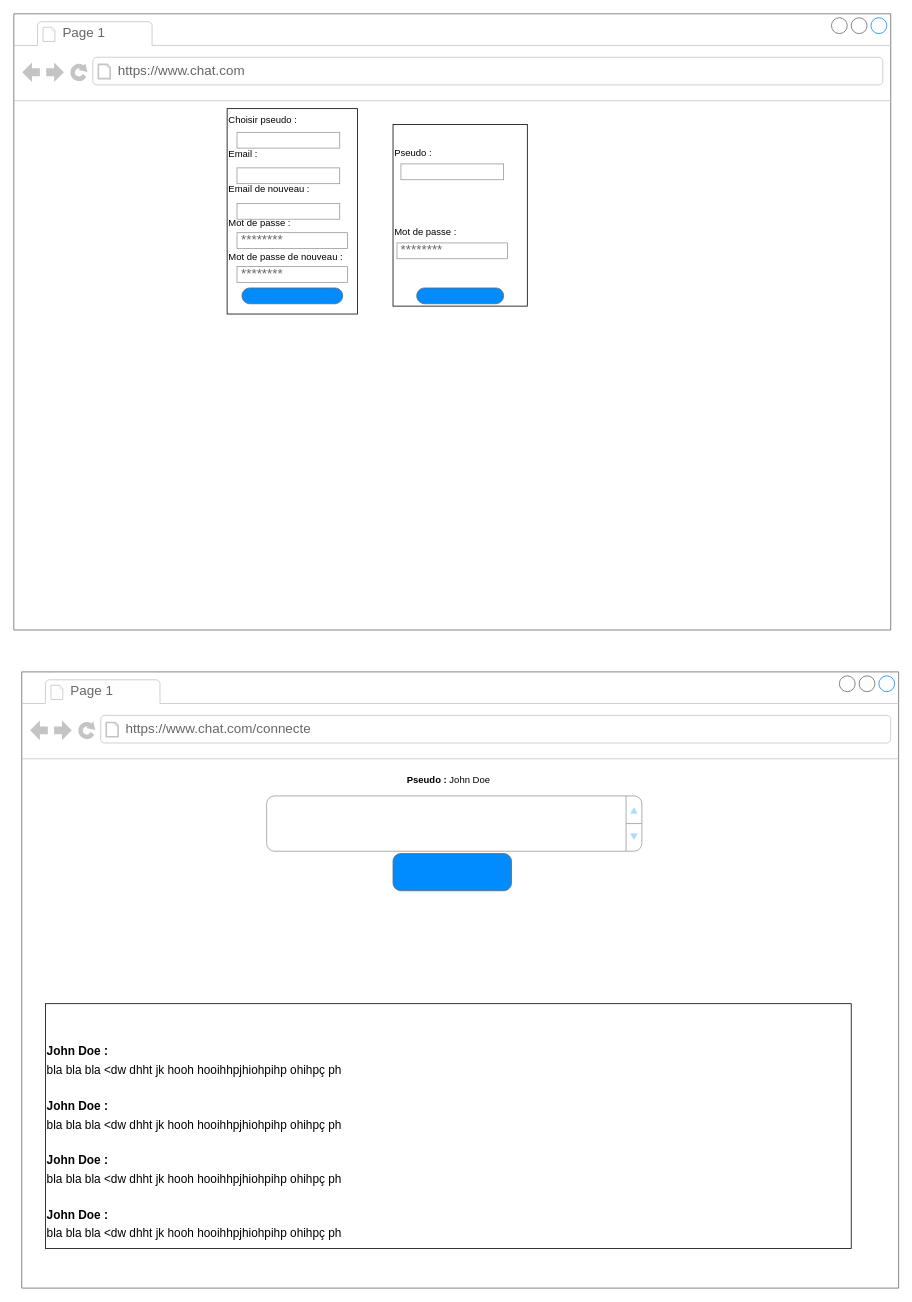
The diagram is 912 pixels wide and 1302 high, and some of its shapes have lost their labels. The centre of each missing label's shape, as x and y in pixels:
"Connecter" belongs at [460,295].
"Envoyer le message" belongs at [452,872].
"S'inscrire" belongs at [292,295].
"Votre message ici" belongs at [454,823].
